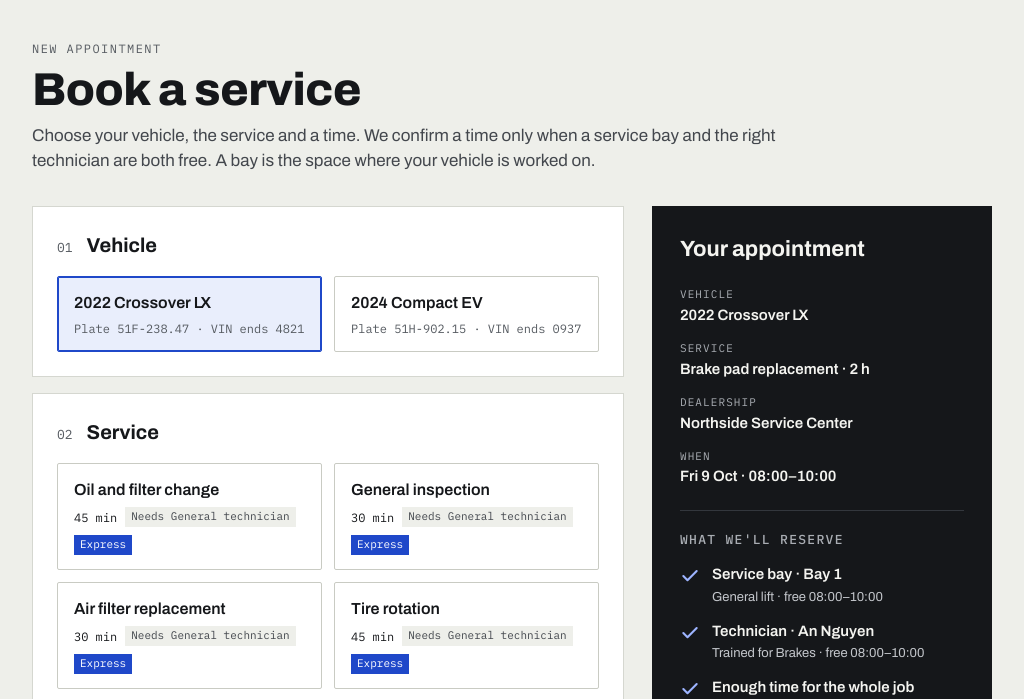
Test: Book screen › cutoff scenario closes same-day booking
The image size is (1024, 699).
Click the button "Oil and filter change" at (190, 517), box top-left (57, 463), bottom-right (322, 570)
(page scrolled)
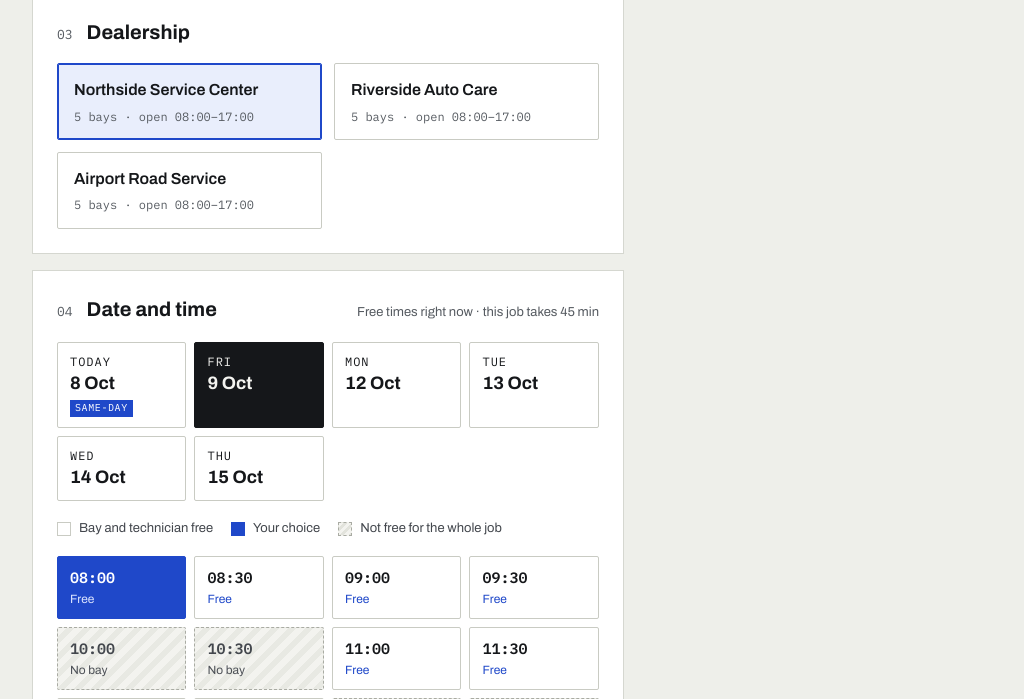
Click the button with aria-label "Today, Thu 8 Oct" at (122, 385), box top-left (57, 342), bottom-right (186, 428)
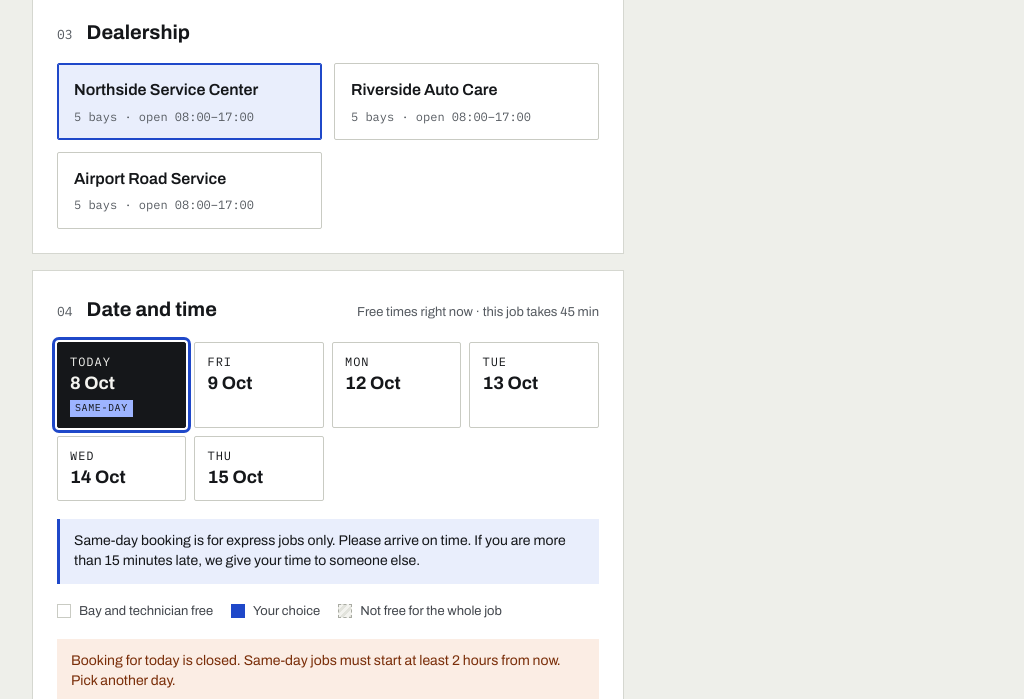
Now the text "Booking for today is closed. Same-day jobs must start at least 2 hours from now. Pick another day." is shown, box top-left (71, 652), bottom-right (561, 688)
